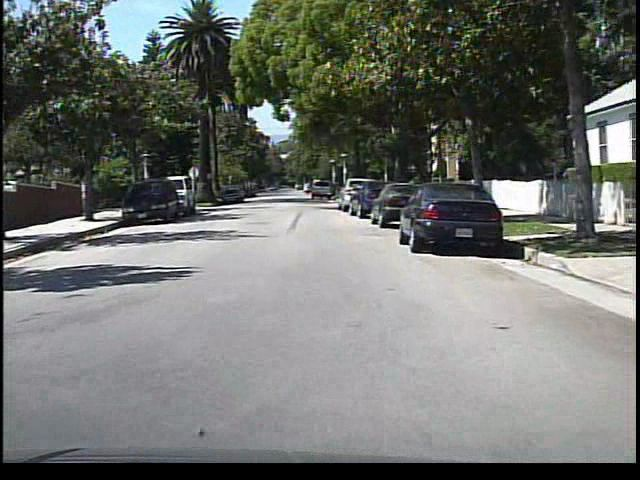person: (75, 178, 93, 217)
